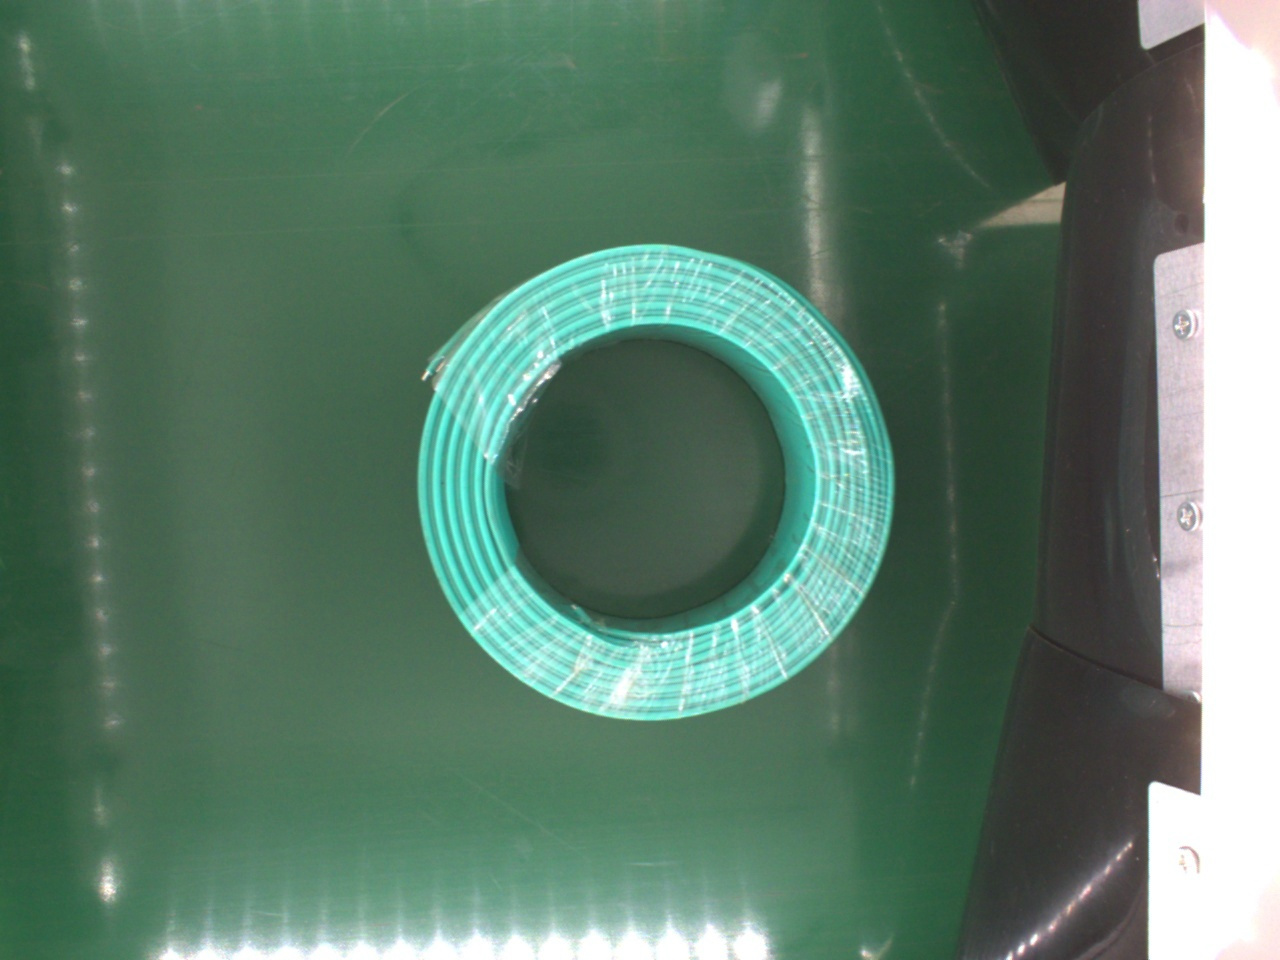green: (411, 239, 895, 720)
